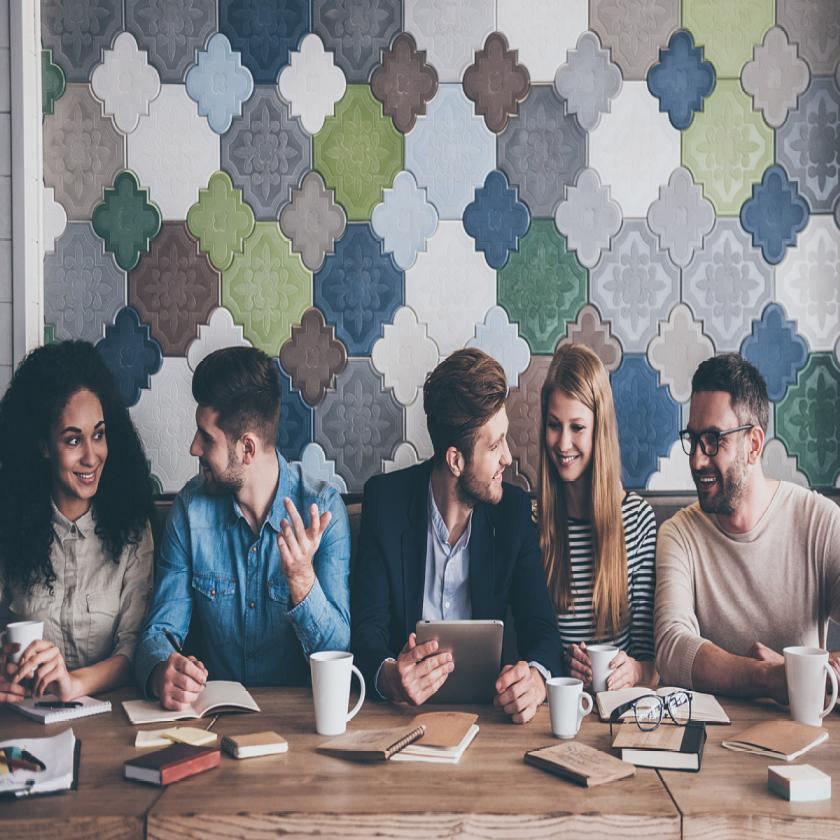Sin_casco: (30, 335, 131, 524), (424, 343, 517, 525), (192, 341, 284, 503), (685, 349, 768, 516), (539, 340, 617, 503)
